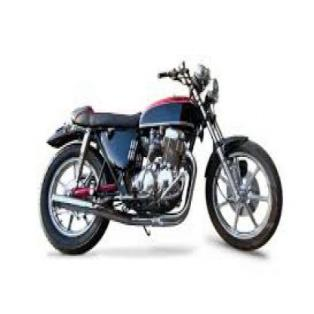Motocicleta: (41, 50, 286, 261)
